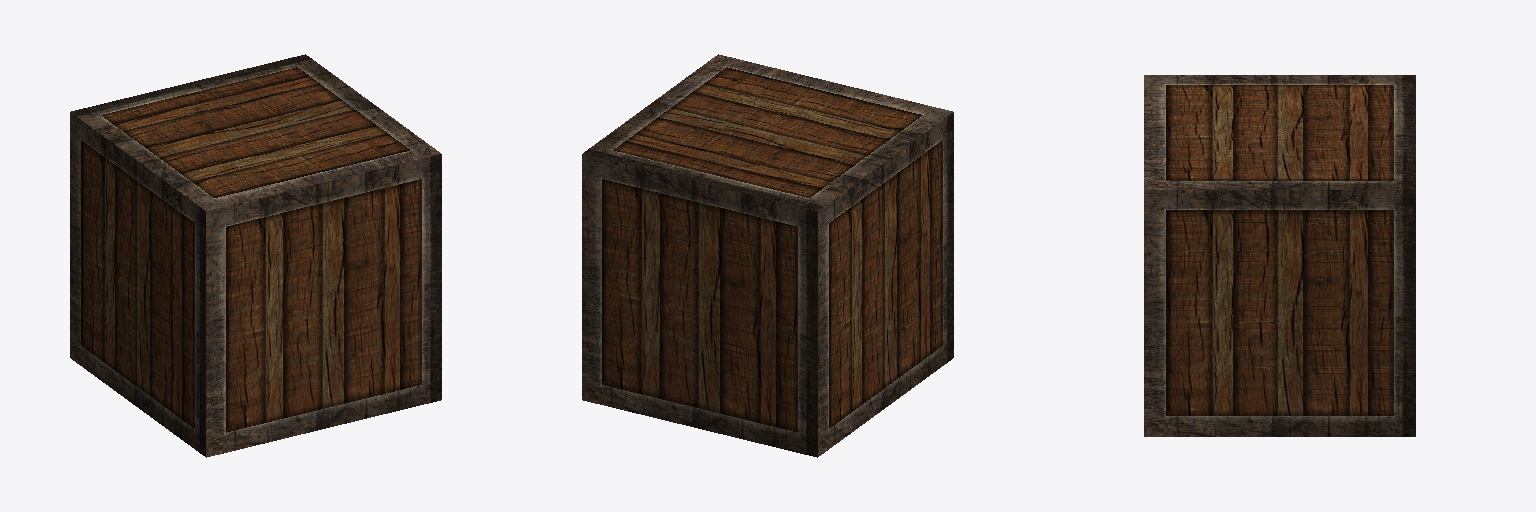
3 views of the same model, side by side, from view 1: azimuth 30°, elevation 25°; view 2: azimuth 150°, elevation 25°; view 3: azimuth 270°, elevation 25° (orthographic).
Visible parts, largest first — view 1: Cube; view 2: Cube; view 3: Cube.
Boxes of the visible parts, <box> form: Cube: <box>70,54,441,457</box>; Cube: <box>582,54,953,457</box>; Cube: <box>1144,75,1415,436</box>.
Size of the model in its own units: 2 by 2 by 2.
1 materials, 1 textured.